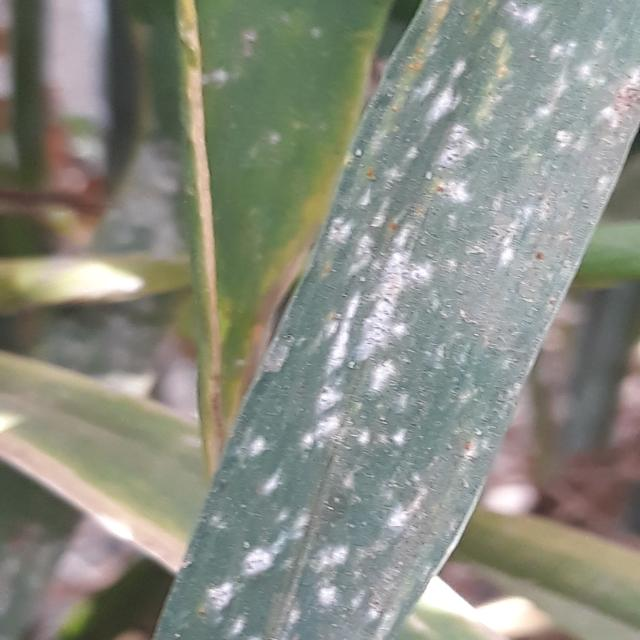powder_mildew: (124, 0, 640, 640), (0, 339, 215, 583)
